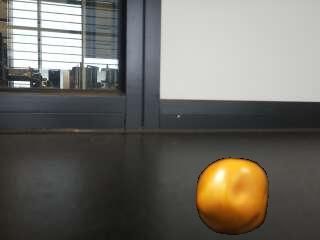Potato: (195, 156, 270, 236)
